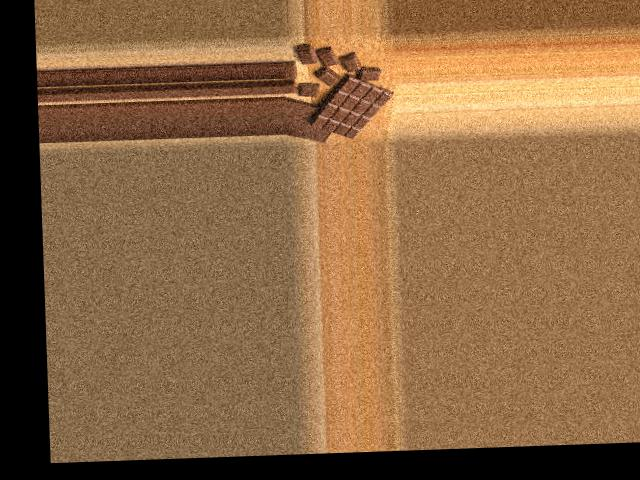chocolate: (308, 69, 392, 140)
